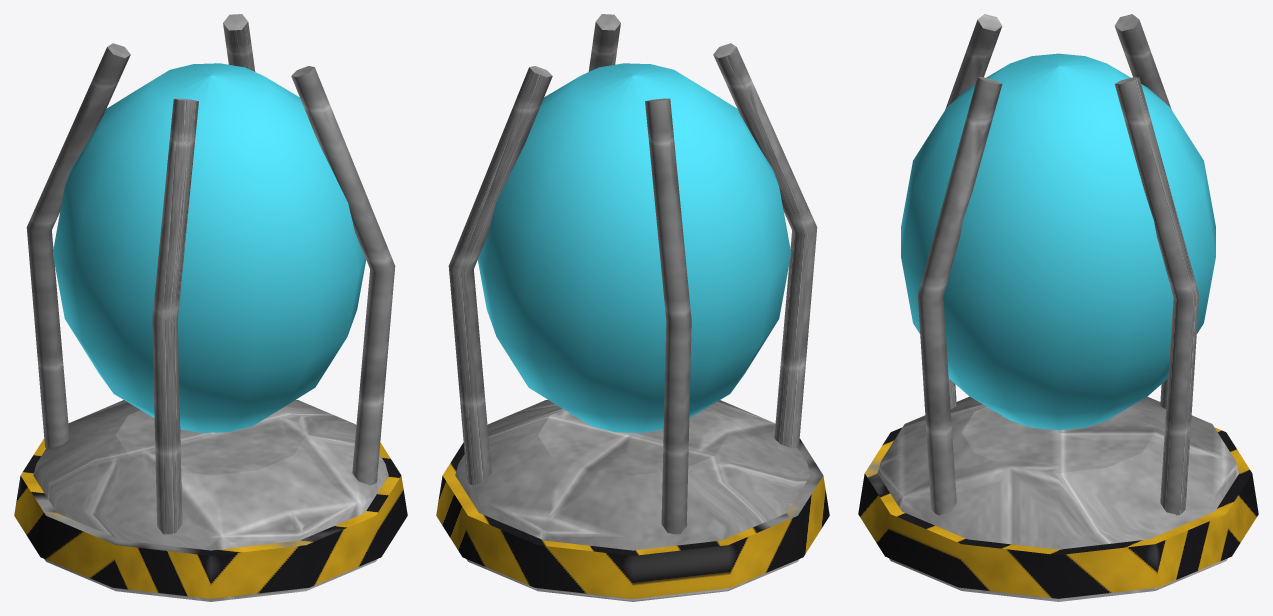
The picture shows the model from 3 angles, left to right: view 1: azimuth 30°, elevation 25°; view 2: azimuth 150°, elevation 25°; view 3: azimuth 270°, elevation 25°; orthographic projection.
Bounding box in the file's own units: 1.24 × 1.61 × 1.24.
Materials: 4 (3 with a texture image).
